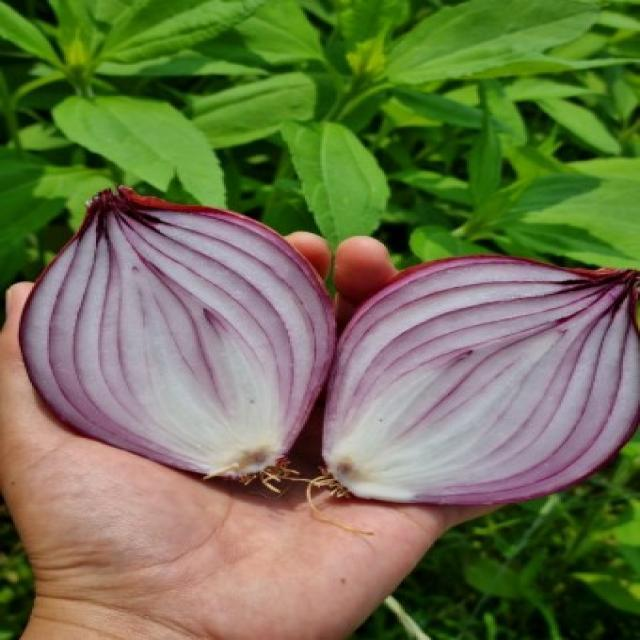onion: (23, 178, 324, 494), (353, 236, 629, 505)
